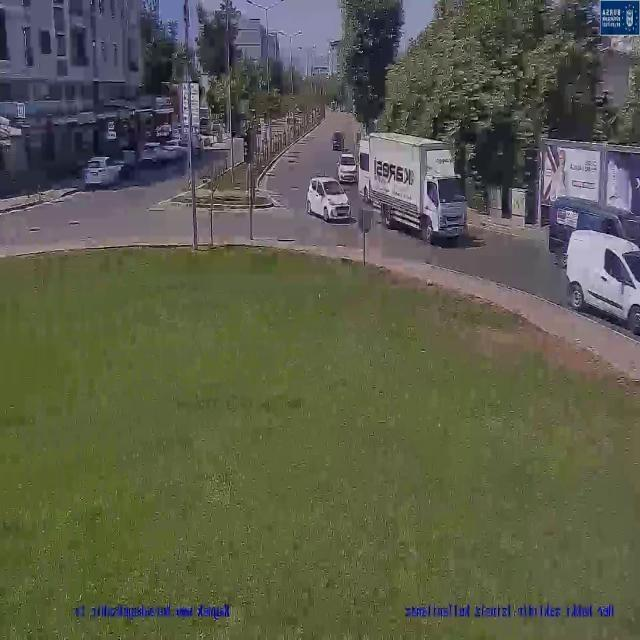Car: (306, 176, 352, 224), (82, 155, 124, 188), (335, 152, 357, 182), (140, 141, 163, 161), (331, 129, 346, 149)
Truck: (368, 129, 467, 246)
Van: (565, 228, 640, 333), (550, 196, 640, 272), (357, 137, 372, 202)
